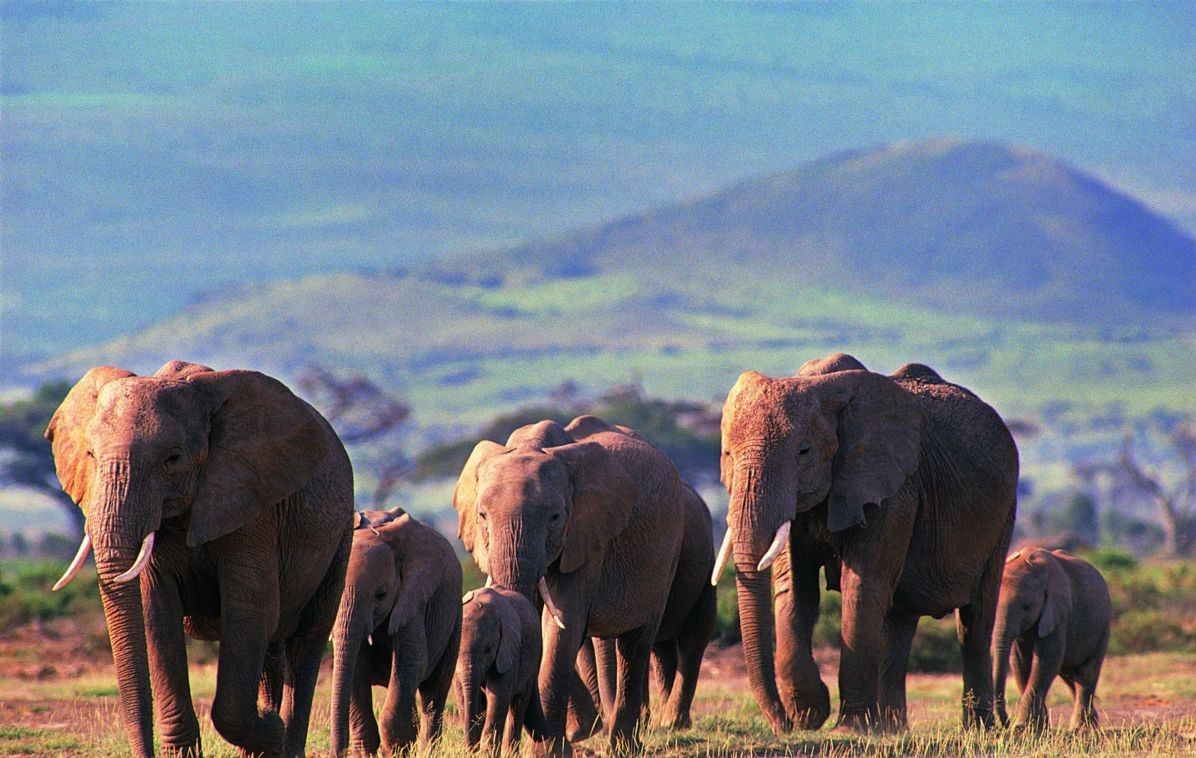elephant: (44, 362, 359, 758), (717, 356, 1014, 742), (452, 415, 716, 732), (317, 510, 466, 757), (981, 545, 1113, 727), (444, 589, 540, 750)
